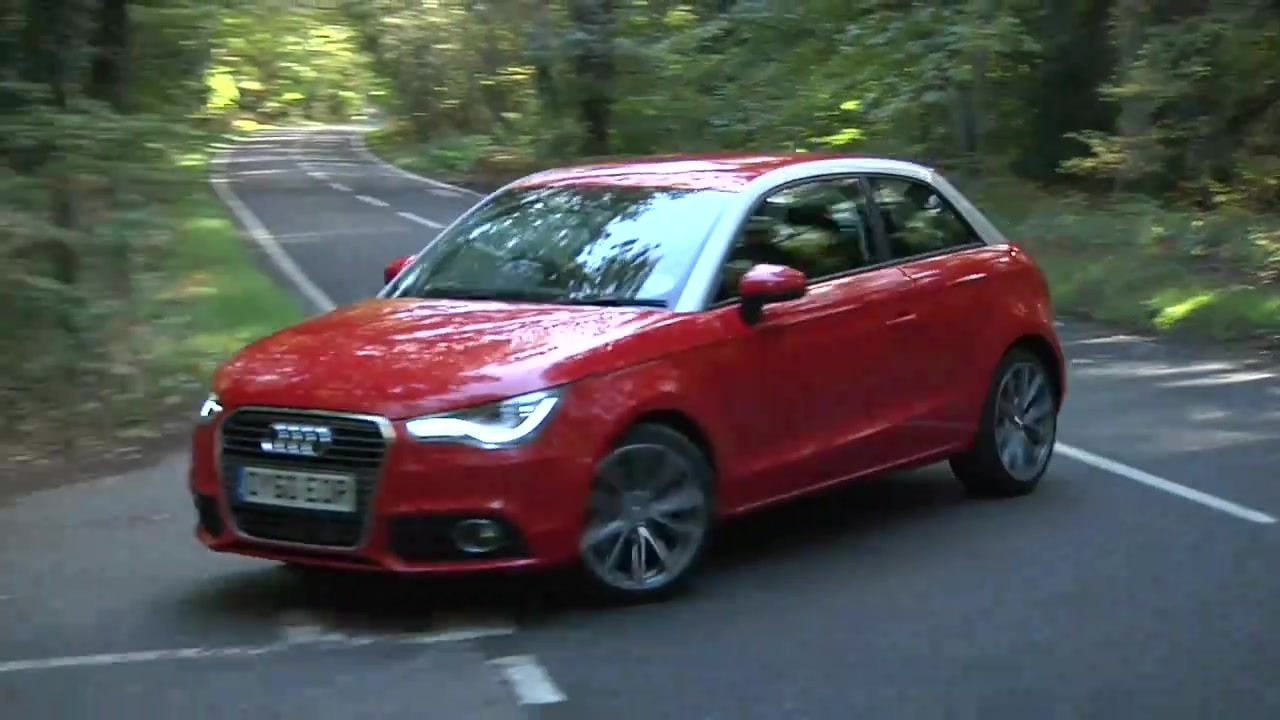car: (192, 146, 1074, 610)
